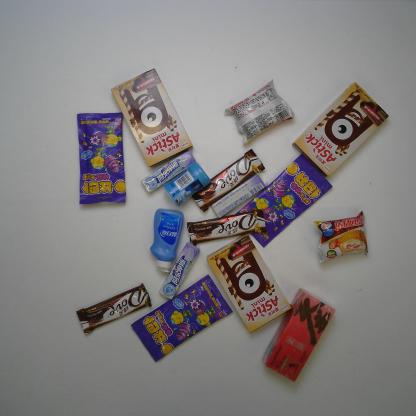Candy: (233, 152, 334, 247), (130, 274, 233, 362), (76, 112, 126, 204), (212, 174, 268, 218), (142, 148, 195, 193), (160, 243, 200, 300)
Chocolate: (188, 149, 266, 213), (75, 283, 151, 335), (186, 208, 268, 248)
Dessert: (293, 82, 389, 178), (207, 232, 292, 333), (110, 67, 193, 168), (225, 80, 295, 146), (313, 210, 369, 263)
Gum: (163, 162, 210, 207)
Instant Drink: (262, 289, 335, 382)
Personal Hygiene: (150, 209, 183, 274)
